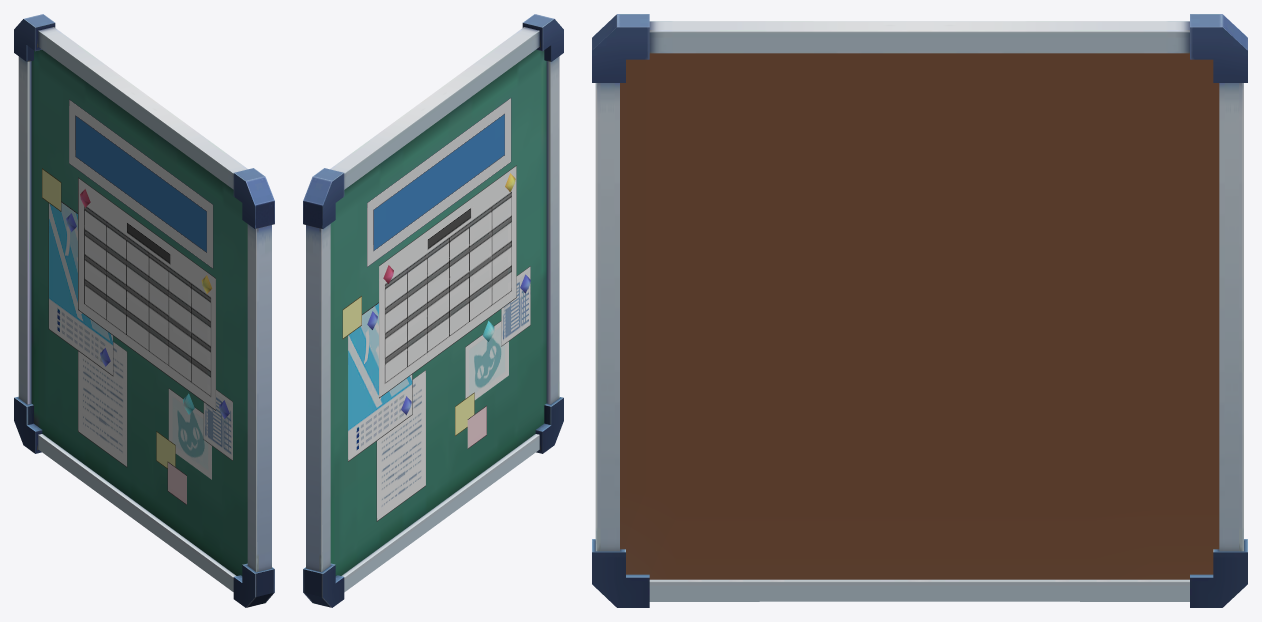
File: my_abydosclassroom_01_blackboard_02.glb
The picture shows the model from 3 angles, left to right: view 1: azimuth 30°, elevation 25°; view 2: azimuth 150°, elevation 25°; view 3: azimuth 270°, elevation 25°; orthographic projection. The views are drawn at different scales.
Visible parts, largest first — view 1: my_abydosclassroom_01_blackboard_02; view 2: my_abydosclassroom_01_blackboard_02; view 3: my_abydosclassroom_01_blackboard_02.
Boxes of the visible parts, x1,y1,x2,y2 form: my_abydosclassroom_01_blackboard_02: (14, 14, 274, 607); my_abydosclassroom_01_blackboard_02: (303, 14, 563, 607); my_abydosclassroom_01_blackboard_02: (592, 14, 1247, 607).
Bounding box in the file's own units: 0.000602 × 0.0113 × 0.0116.
1 material, 1 textured.
